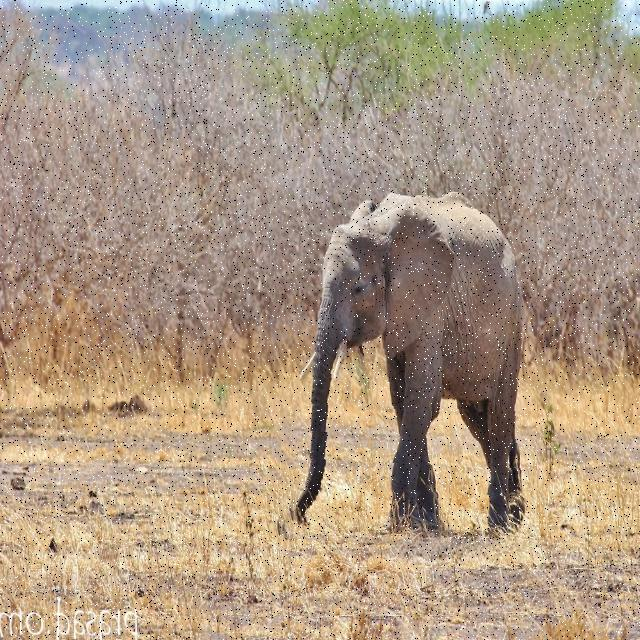elephant: (271, 188, 537, 554)
